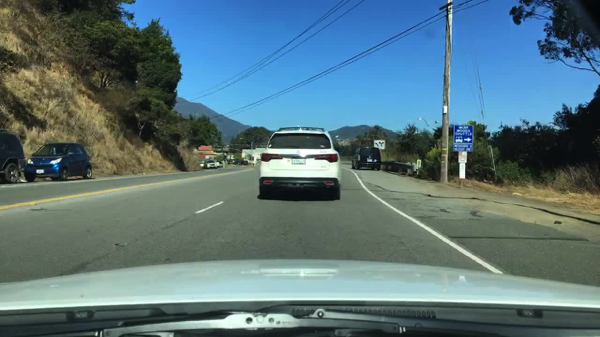car: (258, 126, 339, 201), (24, 143, 91, 184), (1, 130, 26, 184), (351, 146, 381, 171), (203, 161, 216, 169), (213, 160, 222, 169), (196, 160, 205, 168), (233, 161, 242, 166), (240, 161, 249, 166), (227, 159, 234, 165), (220, 159, 227, 163)
traffic sign: (453, 126, 473, 153), (242, 149, 261, 159), (374, 140, 384, 150), (459, 165, 466, 179), (458, 153, 467, 163), (255, 149, 266, 154)
